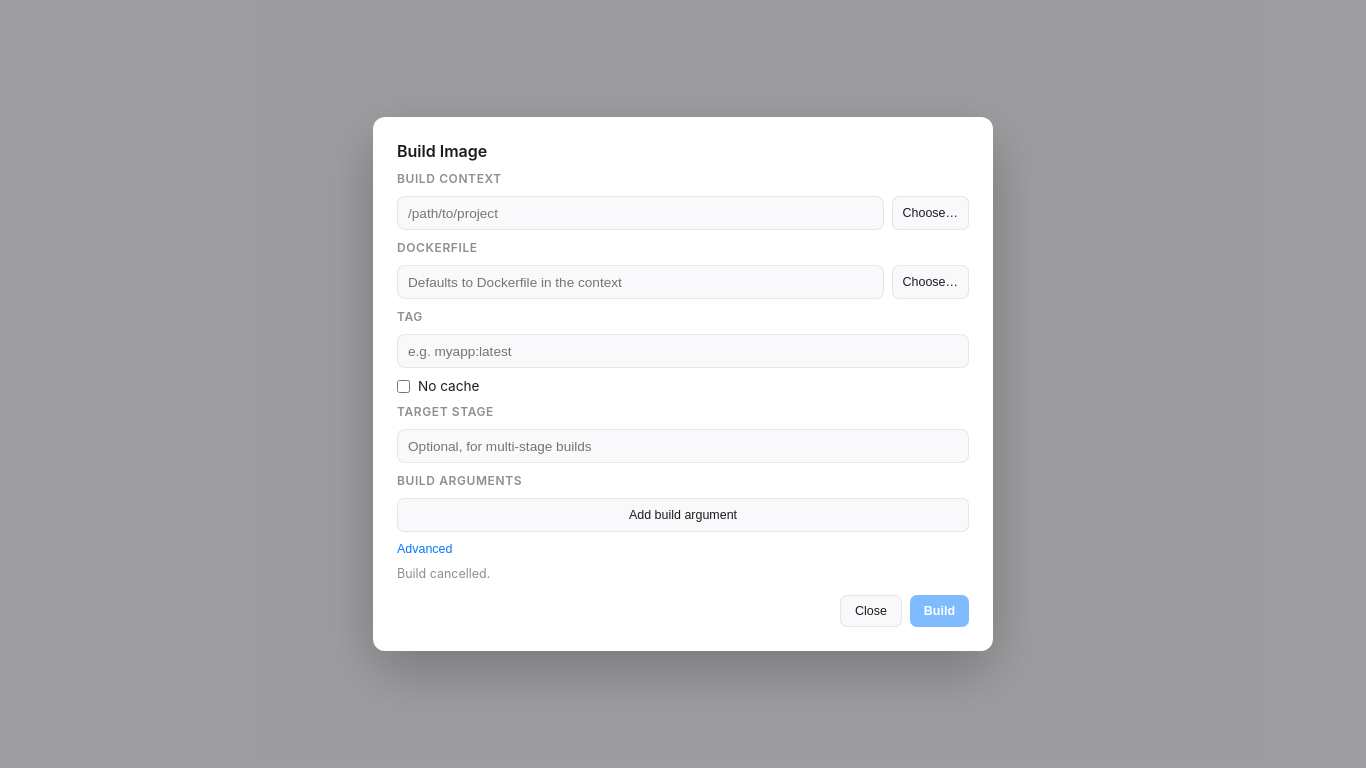
Scenario: BuildModal › drops a cancelled outcome under a start error too
expect the text "Build cancelled." is shown: met, box [397,566,490,581]
Step 1. Type "/src/app" into the field labelled "Build context" → (640,213), box [397,196,884,230]
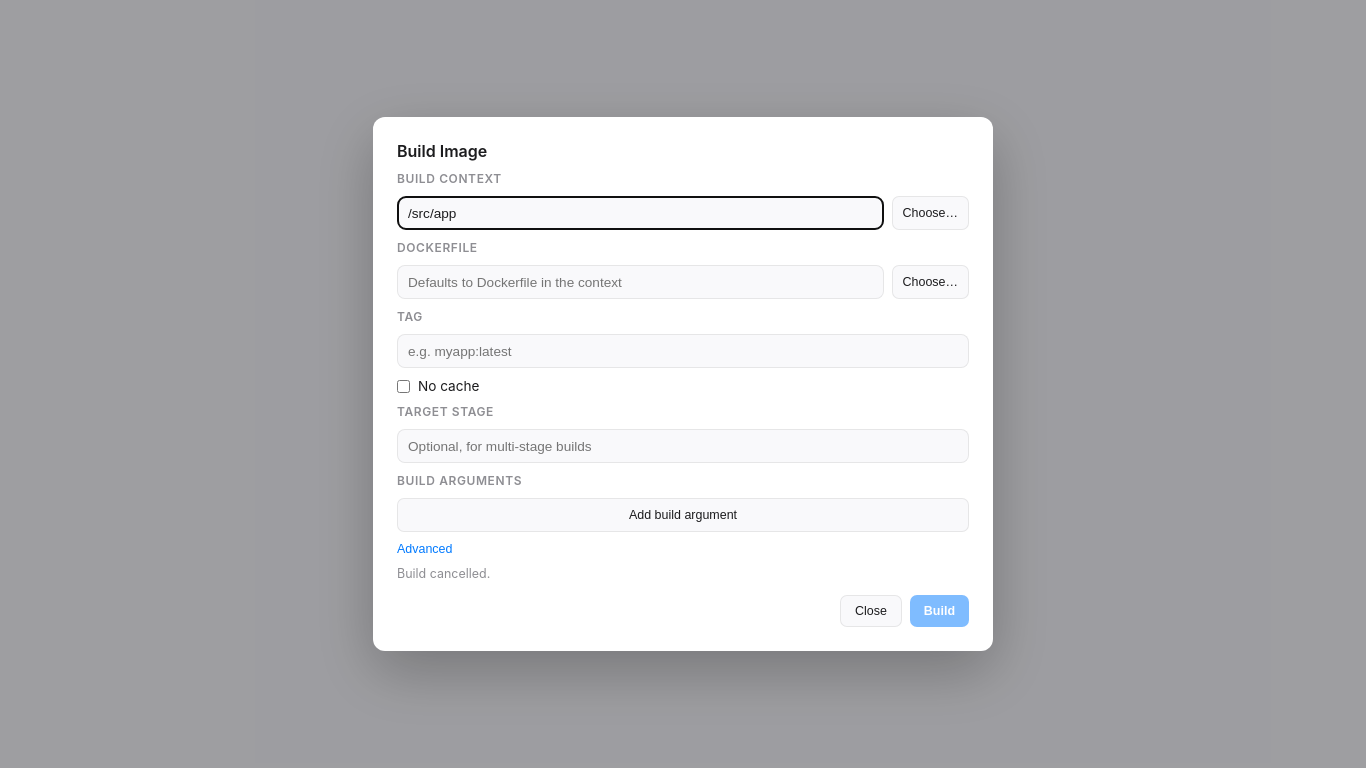
Step 2. Type "app:latest" into the field labelled "Tag" → (683,351), box [397,334,969,368]
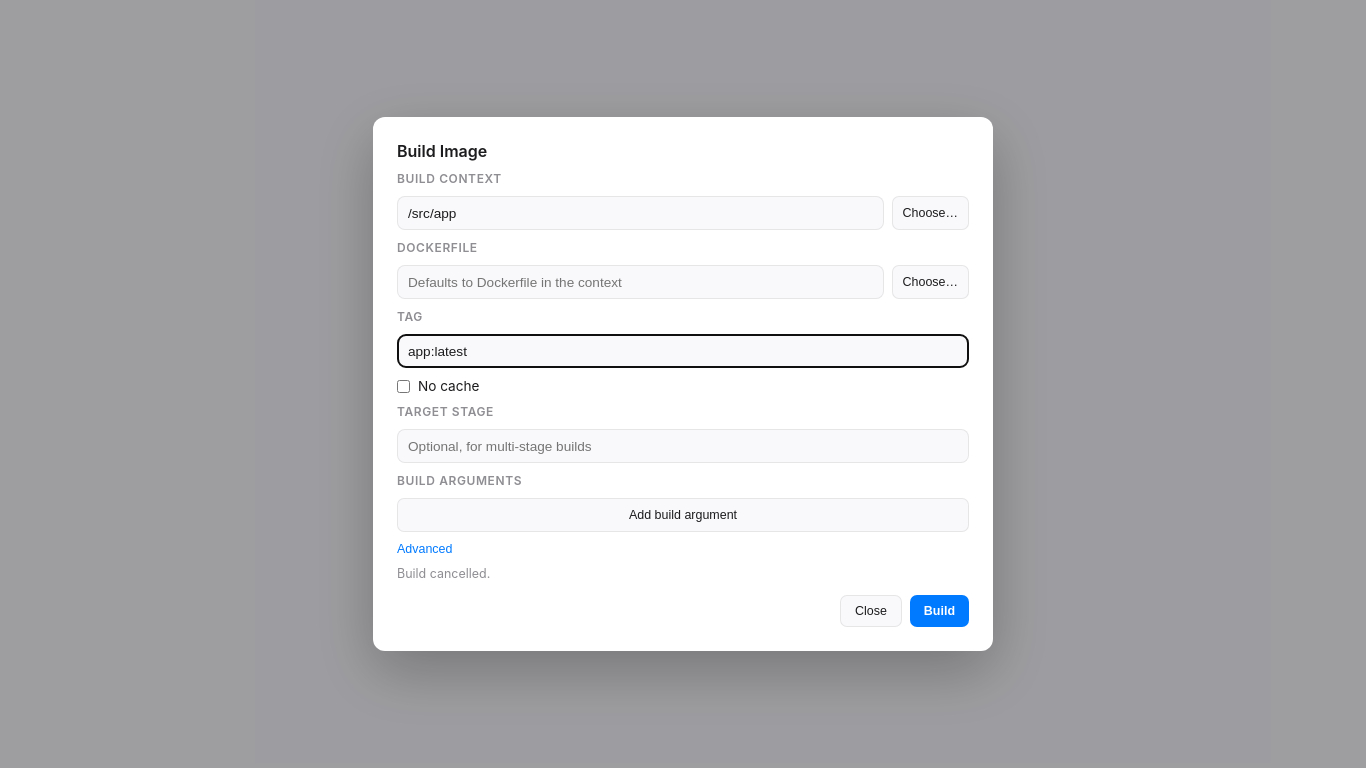
Step 3. Click the button "Build" → (939,611), box [910,595,969,627]
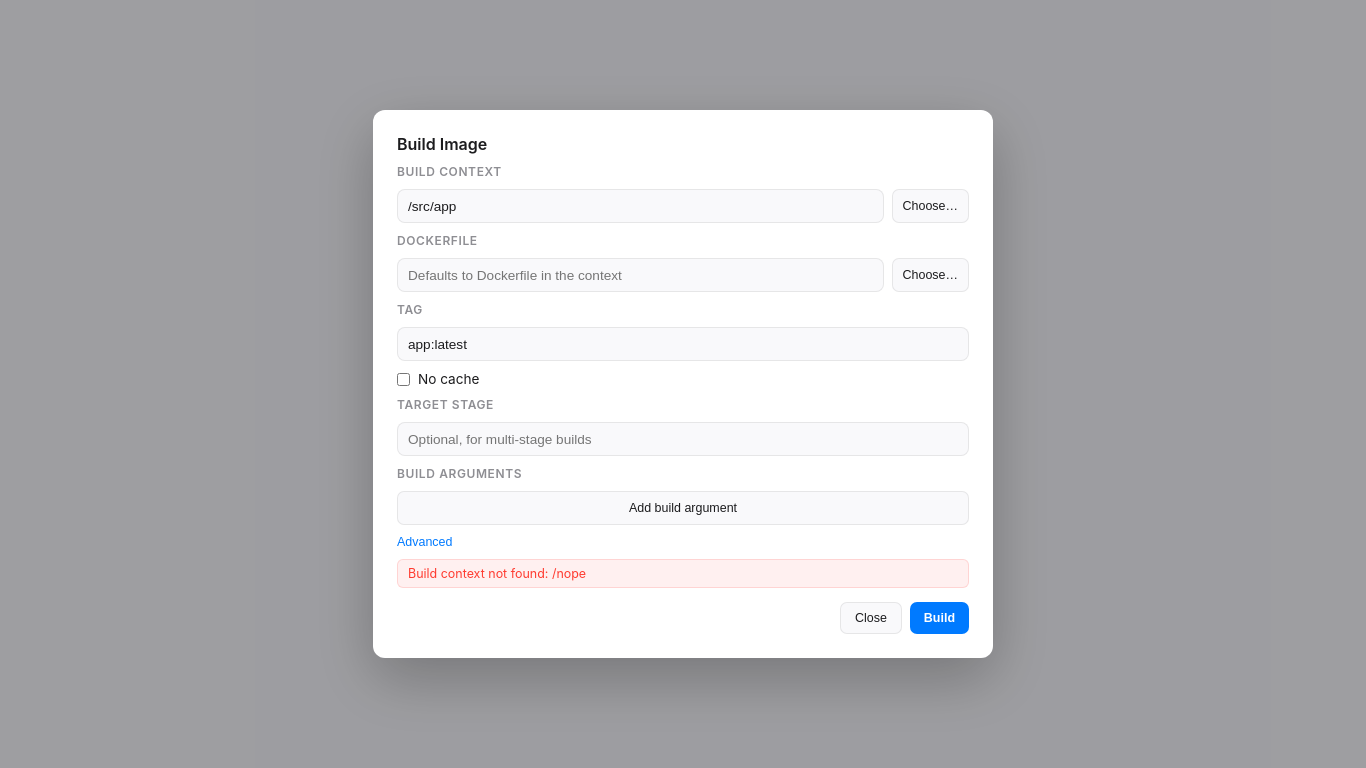
expect the text "Build context not found: /nope" is shown: met, box [397,559,969,588]
expect the text "Build cancelled" is gone: met
